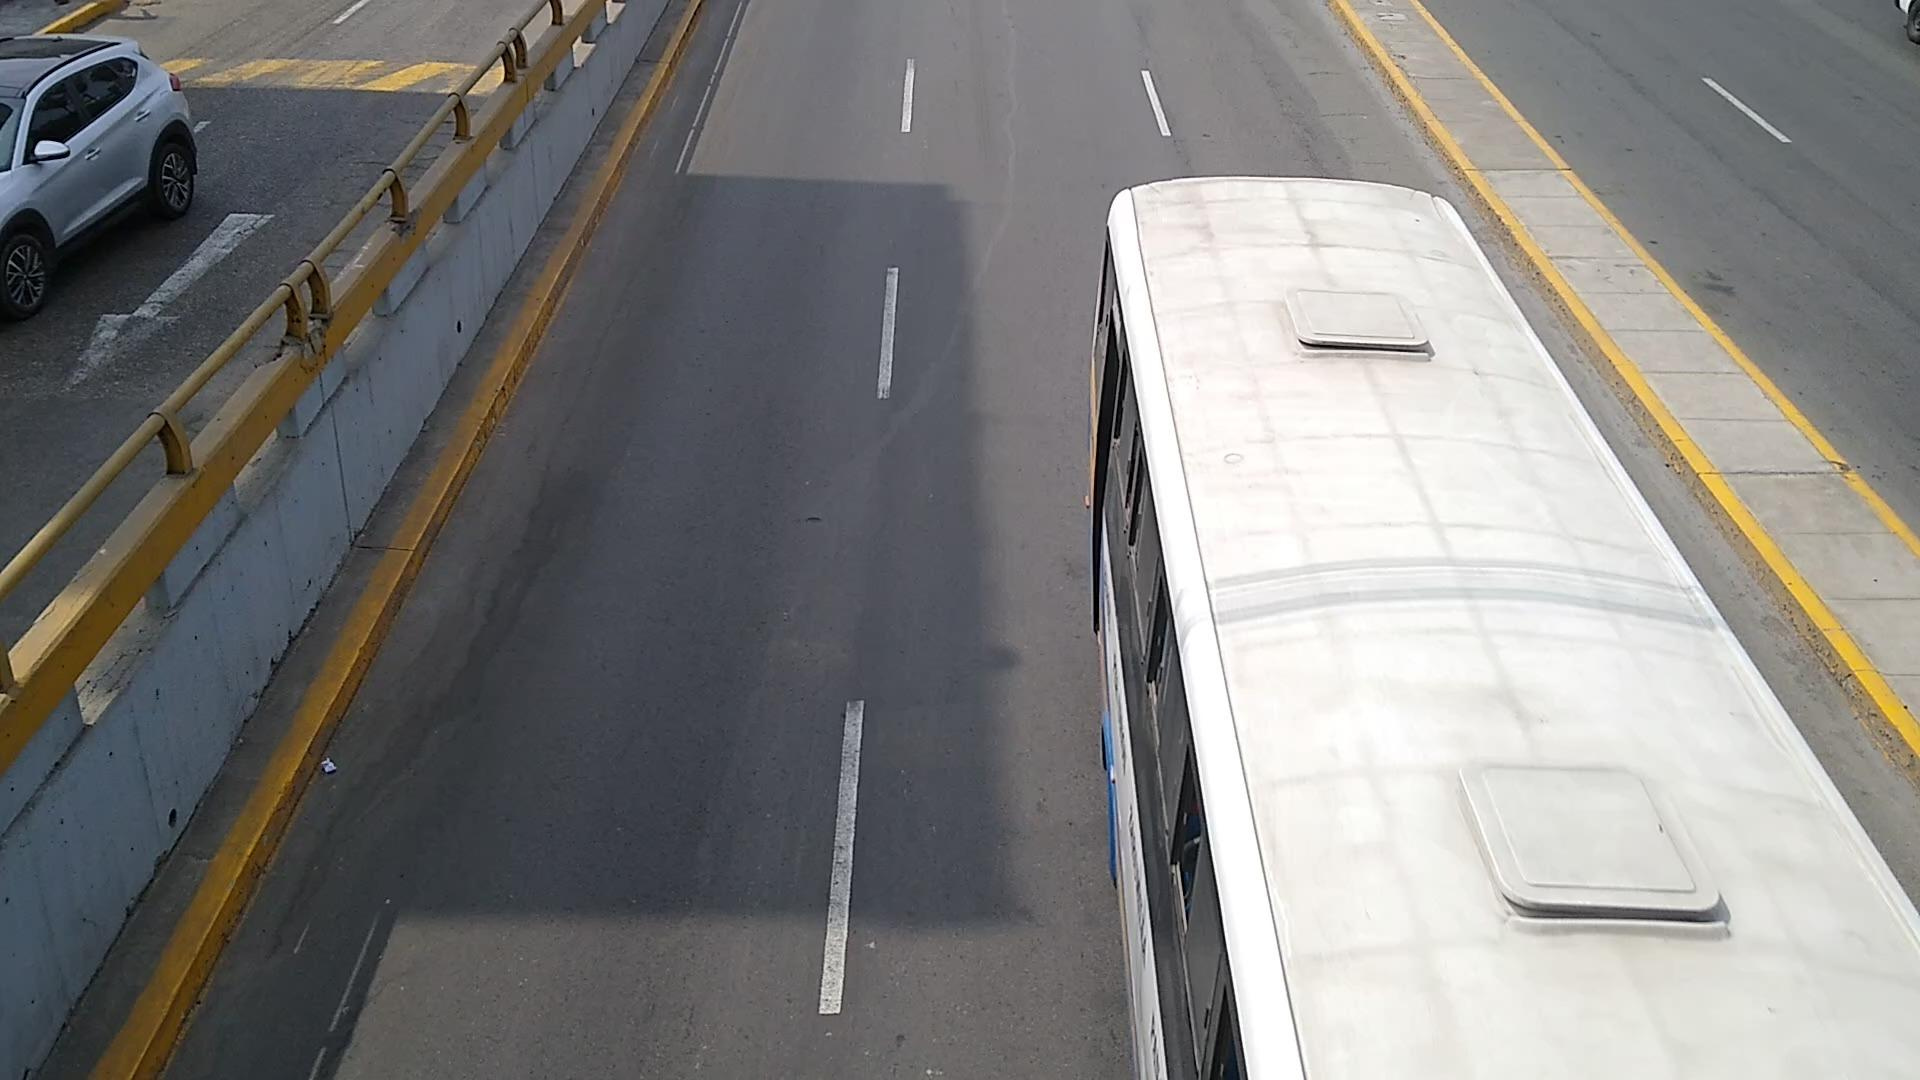car: (105, 0, 533, 94)
